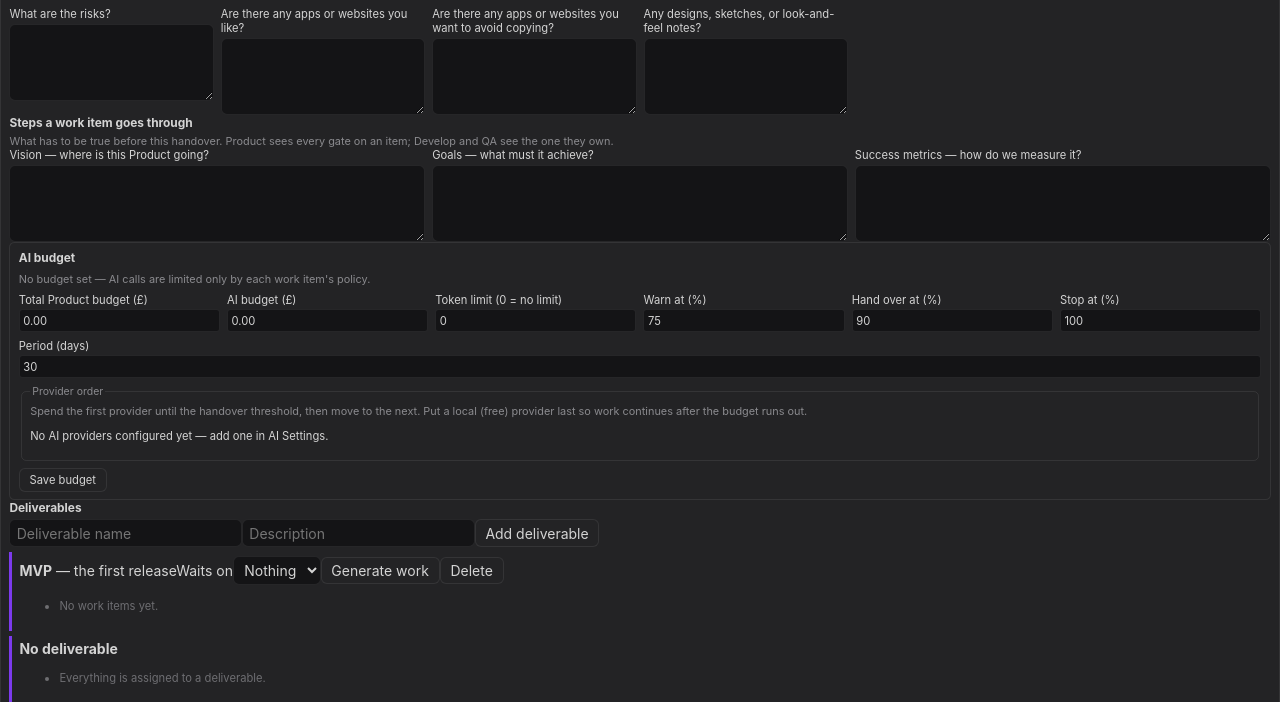
it: ProductStrategy — generating the work for a Deliverable › reports an AI refusal as a question, not an error
This screenshot has width=1280, height=702.
(page scrolled)
Step 1. Click the button with aria-label "Generate work for MVP" → click(380, 570), box [320, 557, 440, 584]
(page scrolled)
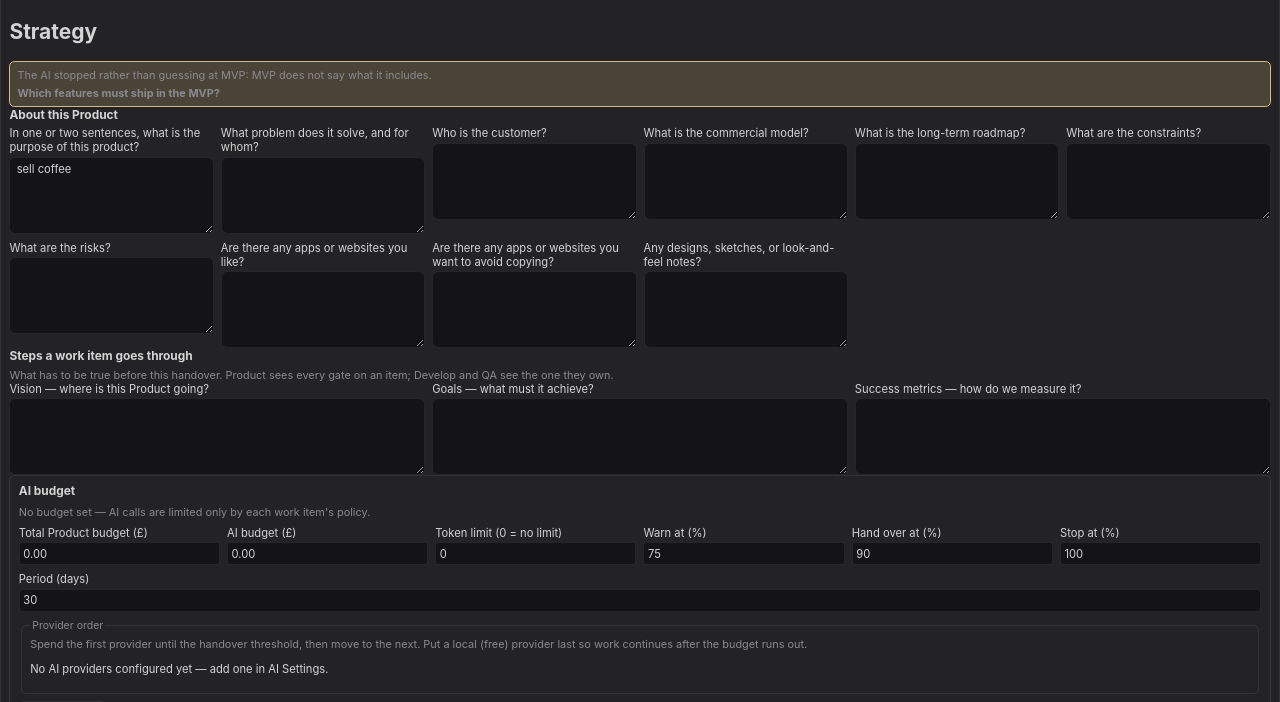
Check: the message shows "stopped rather than guessing", box [9, 61, 1271, 107]
Check: the message shows "Which features must ship in the MVP?", box [17, 86, 220, 100]
